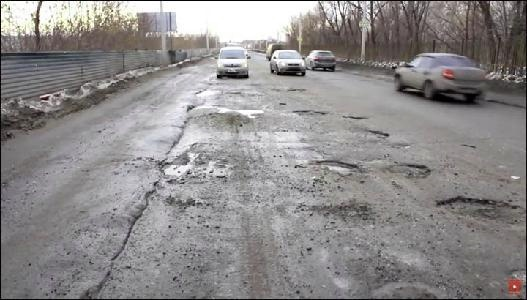pothole: (435, 193, 525, 219), (327, 200, 371, 221), (312, 155, 359, 174), (397, 159, 433, 181), (289, 105, 326, 118), (367, 125, 389, 138), (339, 111, 366, 118)
